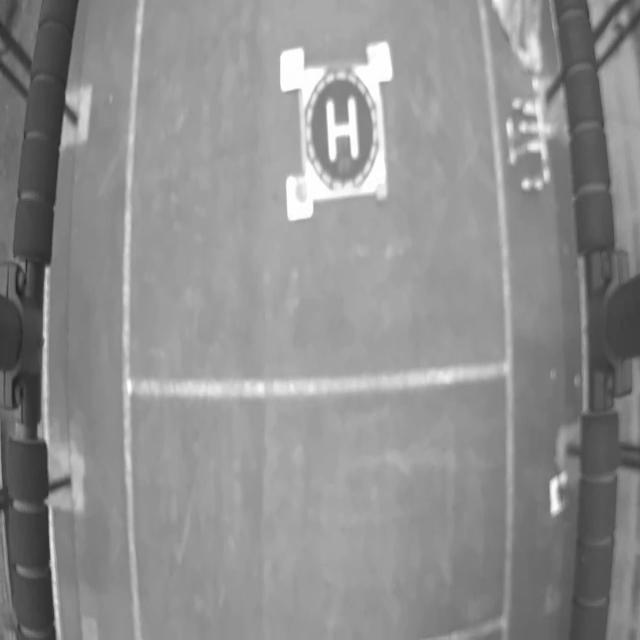Helipad: (326, 97, 360, 162)
